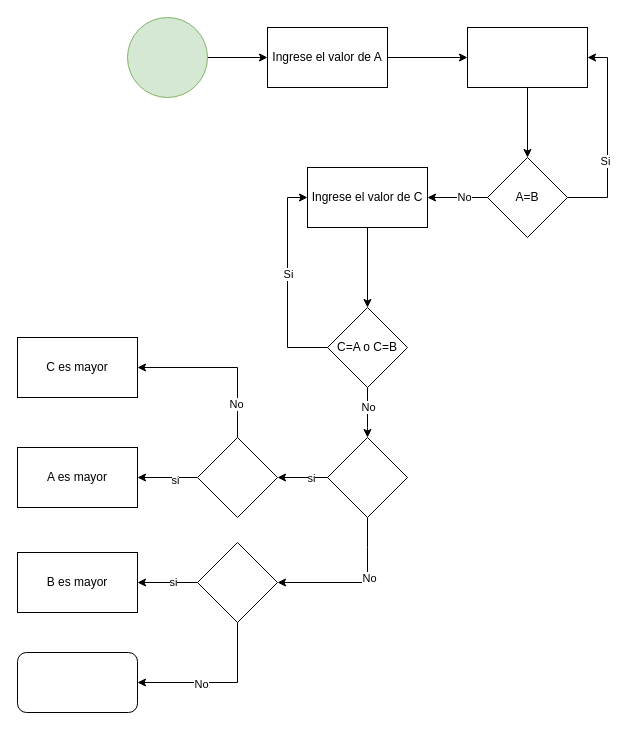
Some shapes in this 633 by 730 pixel diagram are drawn without their labels. Here are the shapes that lost their labels. From the top down, the centre of each, then its label:
At point 527,57: "Ingrese el valor de B".
At point 237,477: "A mayor a C".
At point 367,477: "A mayor a B".
At point 237,582: "B es mayor a c".
